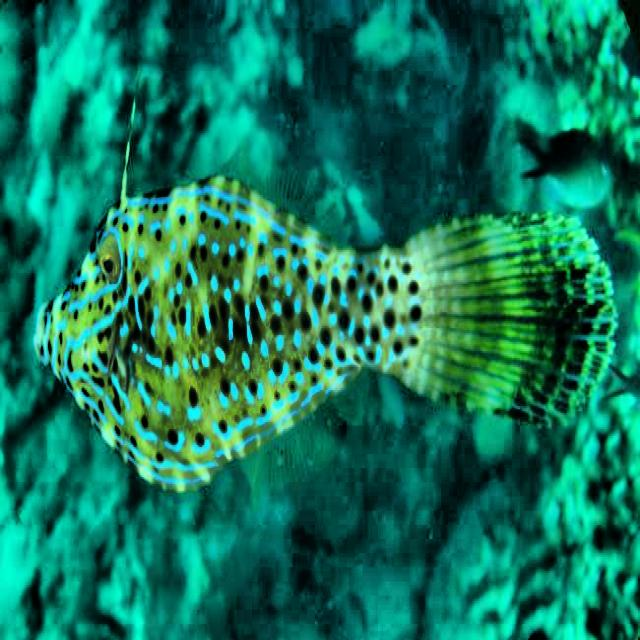fish: (34, 50, 618, 492)
